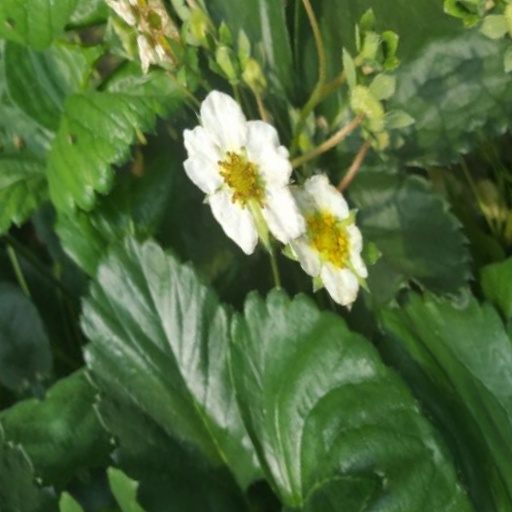Blossom Blight: (255, 292, 304, 362), (304, 204, 350, 272)
